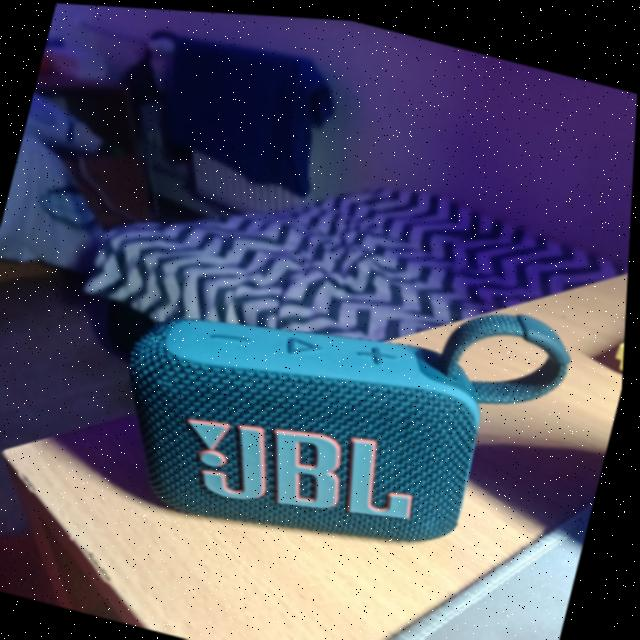column JBL: (93, 213, 594, 597)
